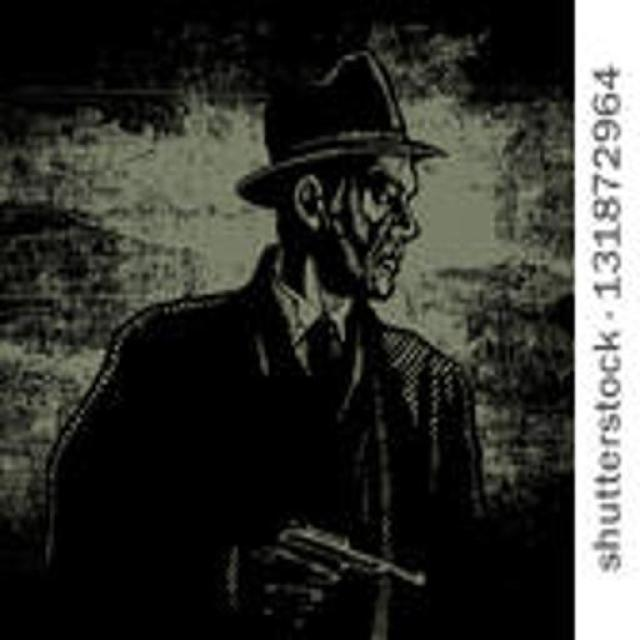pistol: (249, 502, 429, 622)
